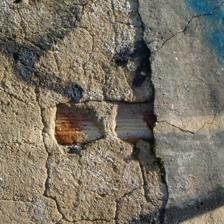Crack: (46, 0, 176, 193), (24, 17, 134, 129), (0, 32, 94, 143), (44, 0, 100, 85), (9, 11, 79, 76), (20, 33, 44, 75)
